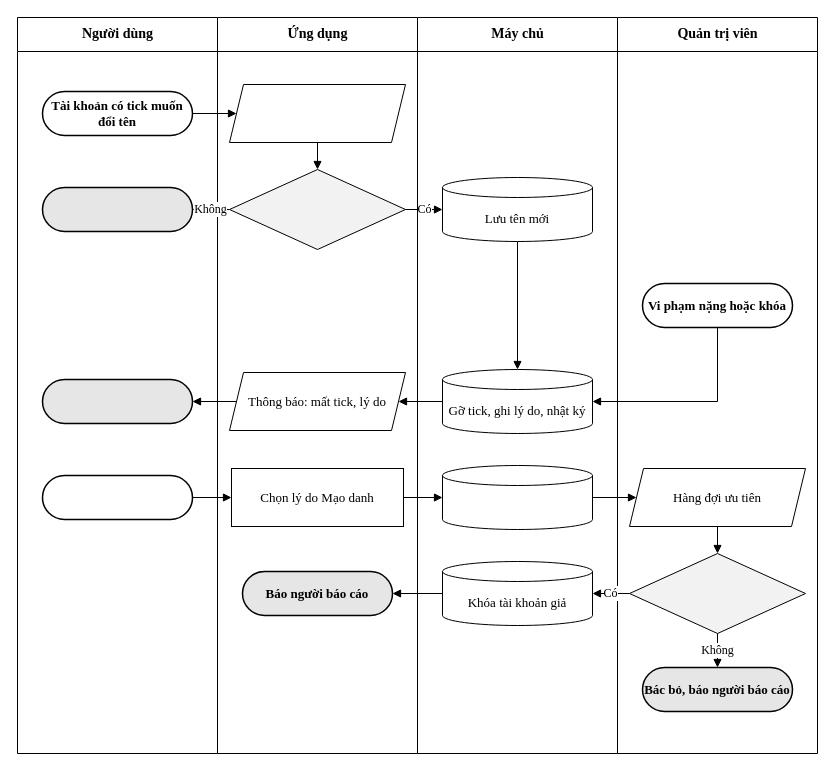
This 835x771 diagram has some shape labels left out. The centre of each missing label's shape, as x and y in pixels:
Cảnh báo: đổi tên sẽ mất tick: the point at 317,113
Giữ tên, giữ tick: the point at 117,209
Lưu báo cáo, ưu tiên cao: the point at 517,497
Người khác báo cáo mạo danh: the point at 117,497
Nộp lại sau 30 ngày: the point at 117,401
Vẫn đổi?: the point at 317,209
Đúng là mạo danh?: the point at 717,593
